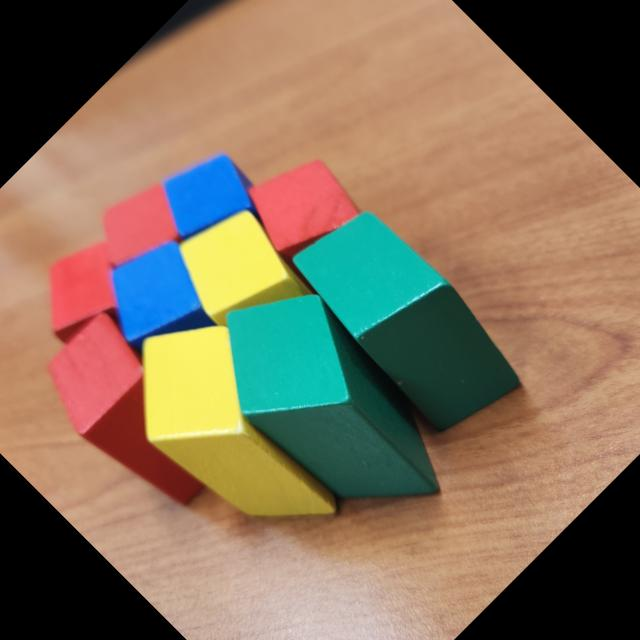blue: (78, 221, 240, 383), (141, 131, 281, 271)
green: (181, 254, 478, 552), (276, 187, 540, 451)
red: (22, 300, 248, 527), (228, 134, 374, 278), (15, 221, 154, 360), (80, 164, 200, 286)
yellow: (95, 291, 377, 573), (156, 190, 328, 362)
